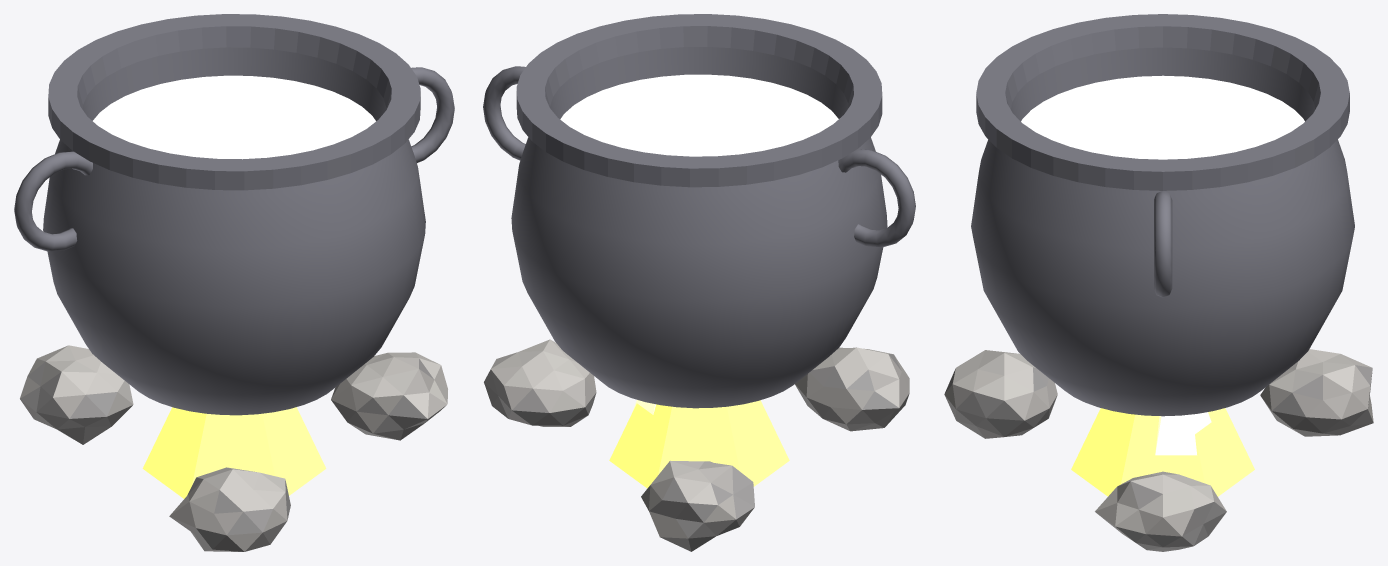
Rendered from Cauldron.glb.
3 views of the same model, side by side, from view 1: azimuth 30°, elevation 25°; view 2: azimuth 150°, elevation 25°; view 3: azimuth 270°, elevation 25° (orthographic).
Visible parts, largest first — view 1: Cauldron_Pot, Cauldron_Liquid, Cauldron_Flame, Cauldron_Stone.002, Cauldron_Stone, Cauldron_Stone.001, Cauldron_Handle, Cauldron_Handle.001; view 2: Cauldron_Pot, Cauldron_Liquid, Cauldron_Flame, Cauldron_Stone.001, Cauldron_Stone, Cauldron_Stone.002, Cauldron_Handle, Cauldron_Handle.001; view 3: Cauldron_Pot, Cauldron_Liquid, Cauldron_Flame, Cauldron_Stone.002, Cauldron_Stone.001, Cauldron_Stone, Cauldron_Handle.001, Cauldron_Flame.001.
Part boxes in pixels (x1,y1,x2,y2): Cauldron_Pot: (43, 14, 425, 415); Cauldron_Liquid: (93, 75, 375, 159); Cauldron_Flame: (142, 407, 326, 498); Cauldron_Stone.002: (169, 467, 290, 551); Cauldron_Stone: (331, 352, 447, 440); Cauldron_Stone.001: (20, 345, 133, 444); Cauldron_Handle: (14, 151, 92, 251); Cauldron_Handle.001: (411, 67, 454, 162); Cauldron_Pot: (511, 14, 887, 408); Cauldron_Liquid: (560, 74, 838, 156); Cauldron_Flame: (609, 400, 789, 488); Cauldron_Stone.001: (641, 460, 754, 551); Cauldron_Stone: (484, 339, 596, 426); Cauldron_Stone.002: (795, 347, 909, 431); Cauldron_Handle: (838, 149, 915, 247); Cauldron_Handle.001: (483, 66, 525, 160); Cauldron_Pot: (971, 14, 1354, 416); Cauldron_Liquid: (1021, 75, 1304, 159); Cauldron_Flame: (1071, 408, 1254, 496); Cauldron_Stone.002: (944, 350, 1057, 438); Cauldron_Stone.001: (1260, 349, 1373, 436); Cauldron_Stone: (1095, 471, 1226, 551); Cauldron_Handle.001: (1154, 191, 1172, 297); Cauldron_Flame.001: (1155, 412, 1211, 455).
Bounding box in the file's own units: 1.93 × 1.6 × 1.63.
